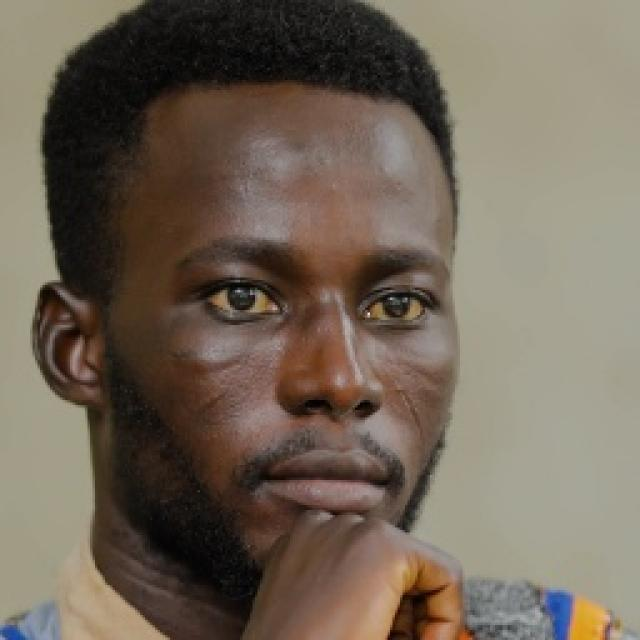no-glasses: (185, 261, 445, 348)
